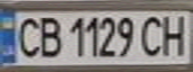1: (63, 14, 84, 57), (81, 14, 100, 57)
2: (97, 14, 118, 58)
9: (115, 14, 139, 58)
B: (33, 13, 63, 60)
C: (9, 13, 45, 60), (136, 12, 169, 57)
H: (157, 11, 193, 57)
